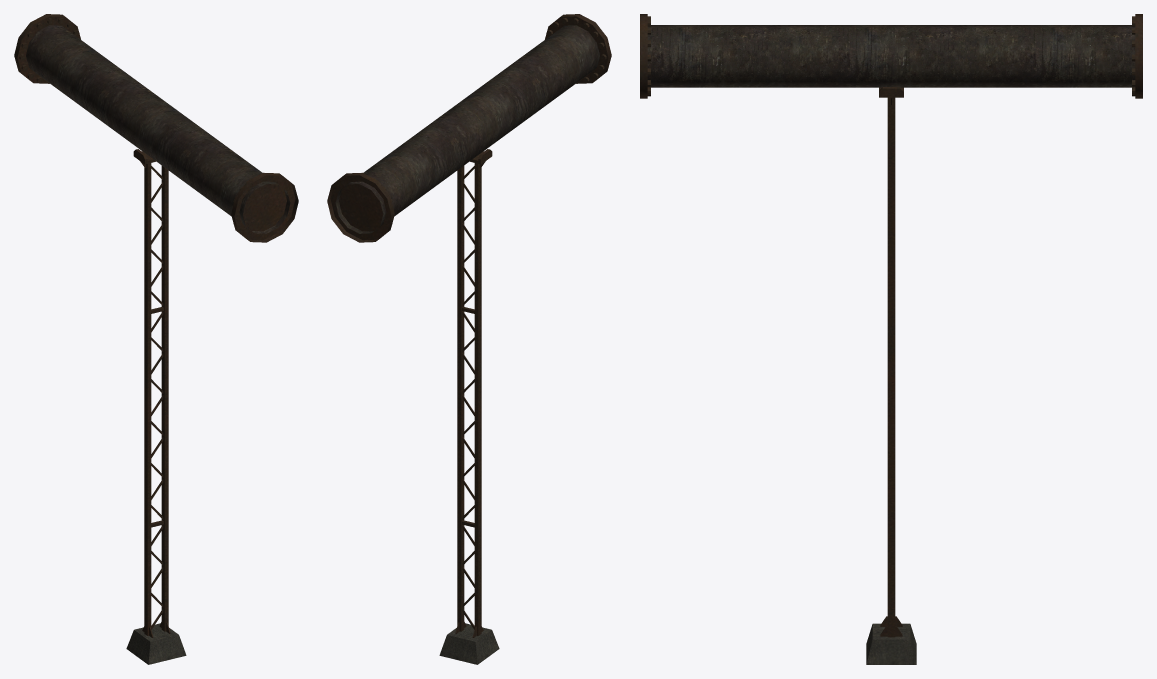
The model's file is pipe_dx_1.obj.
3 renders of one model, left to right at view 1: azimuth 30°, elevation 25°; view 2: azimuth 150°, elevation 25°; view 3: azimuth 270°, elevation 25°, orthographic. The views are drawn at different scales.
Visible parts, largest first — view 1: pipe_dx_1; view 2: pipe_dx_1; view 3: pipe_dx_1.
Boxes of the visible parts, left/top/right/bottom form: pipe_dx_1: left=14, top=14, right=298, bottom=664; pipe_dx_1: left=327, top=14, right=611, bottom=664; pipe_dx_1: left=640, top=14, right=1142, bottom=664.
Size of the model in its own units: 0.676 by 5.59 by 4.
